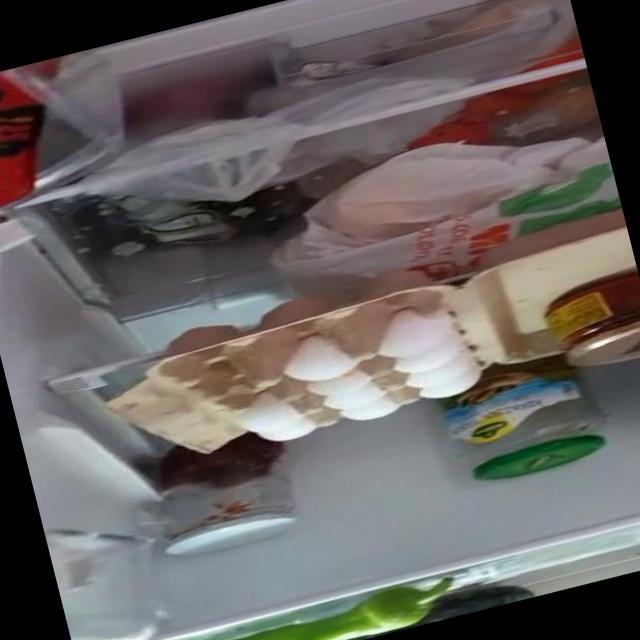Huevos: (221, 305, 482, 446)
green chilies: (98, 573, 456, 640)
tomato paste: (453, 84, 537, 129), (417, 113, 489, 155)
